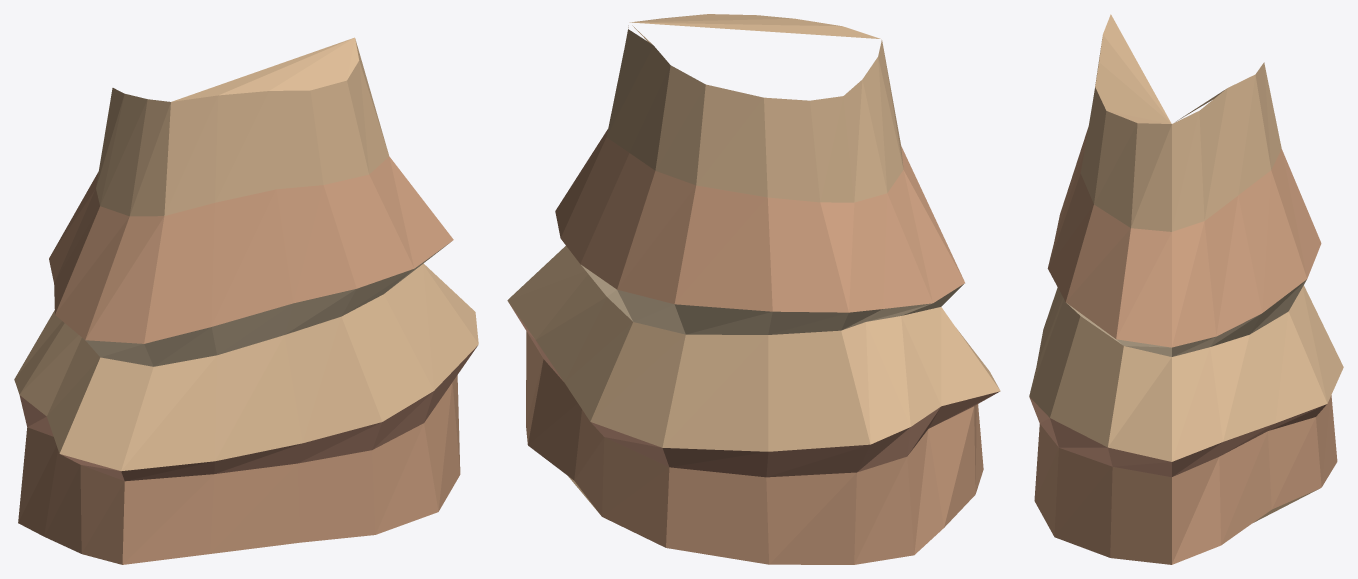
The model's file is sandstone-2.glb.
3 renders of one model, left to right at view 1: azimuth 30°, elevation 25°; view 2: azimuth 150°, elevation 25°; view 3: azimuth 270°, elevation 25°, orthographic. The views are drawn at different scales.
Bounding box in the file's own units: 30.72 × 28.97 × 19.89.
